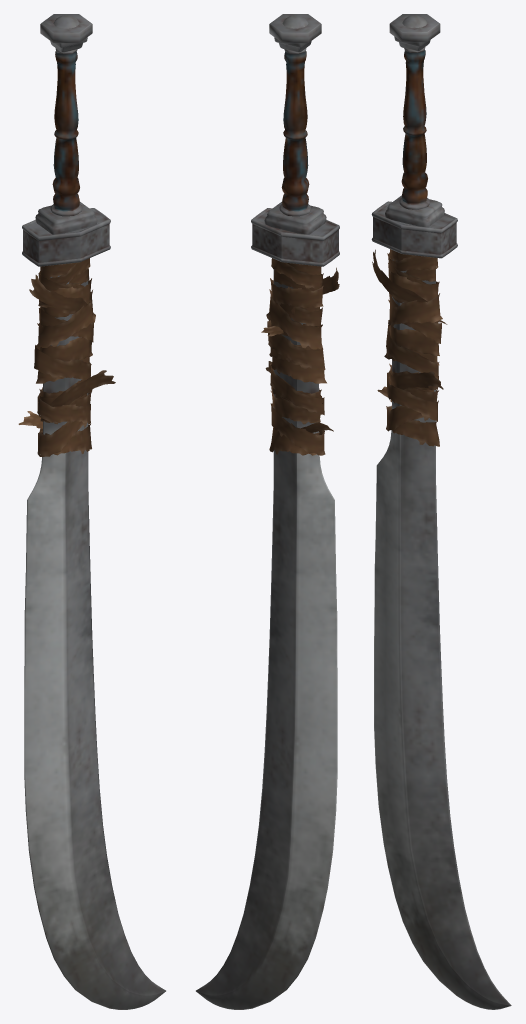
The model's file is weapon-wp_a_0452.glb.
3 views of the same model, side by side, from view 1: azimuth 30°, elevation 25°; view 2: azimuth 150°, elevation 25°; view 3: azimuth 330°, elevation 25° (orthographic). The views are drawn at different scales.
Visible parts, largest first — view 1: wp_a_0452_mesh; view 2: wp_a_0452_mesh; view 3: wp_a_0452_mesh.
Part boxes in pixels (left/top/right/bottom): wp_a_0452_mesh: left=18, top=14, right=165, bottom=1009; wp_a_0452_mesh: left=196, top=14, right=339, bottom=1009; wp_a_0452_mesh: left=371, top=14, right=511, bottom=1009.
Bounding box in the file's own units: 0.2818 × 1.85 × 0.0946.
2 materials, 2 textured.
